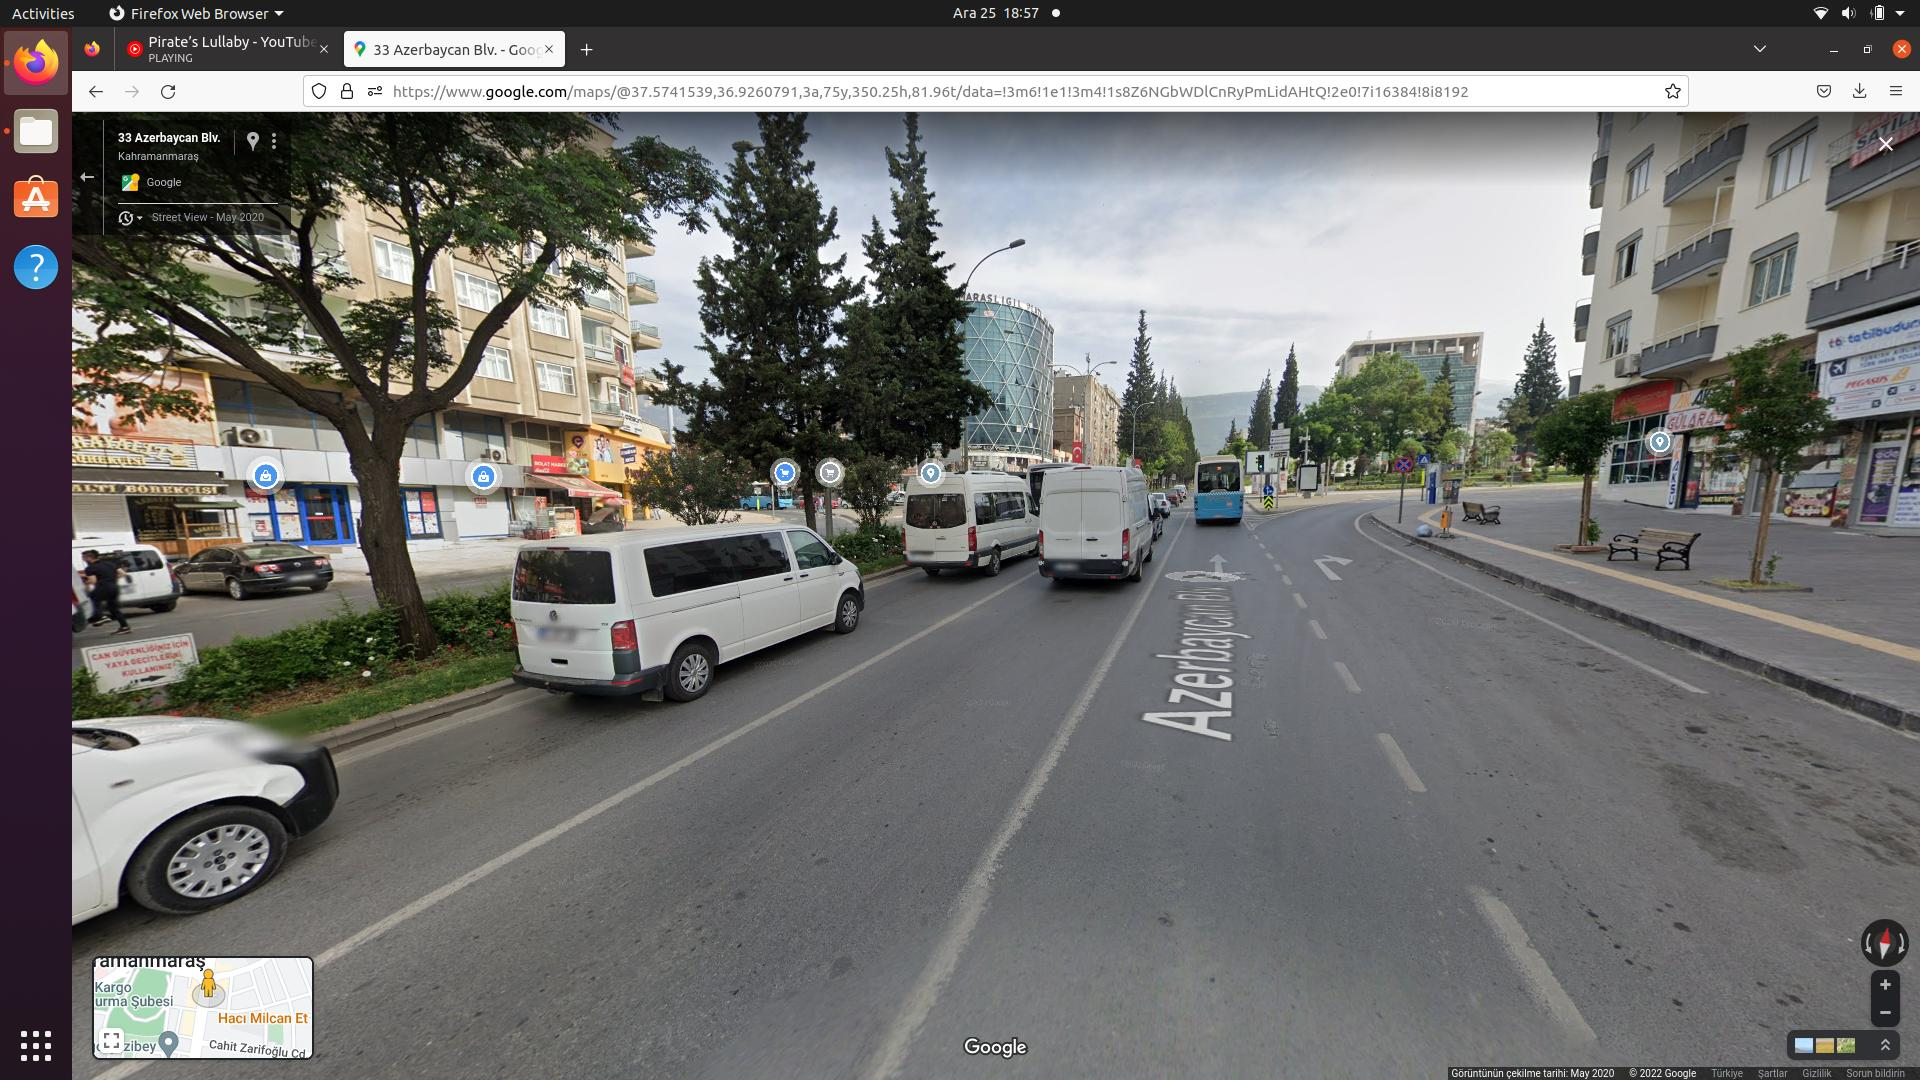greenlight: (1258, 455, 1266, 472)
